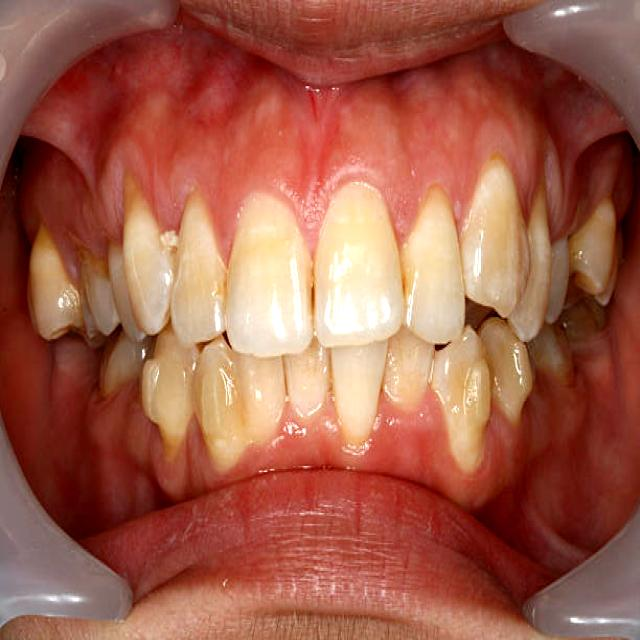gingivitis: (22, 27, 626, 260)
